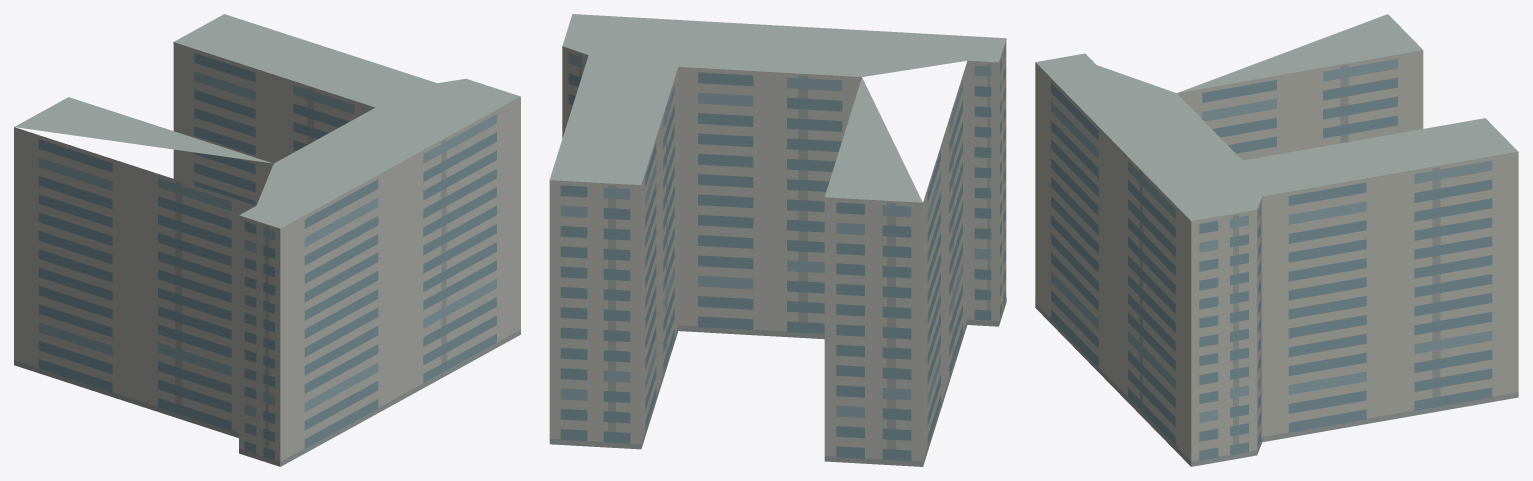
Rendered from residential-df0714a9-7a3e-4f11-92aa-8edfc4a081b9.glb.
The picture shows the model from 3 angles, left to right: view 1: azimuth 30°, elevation 25°; view 2: azimuth 150°, elevation 25°; view 3: azimuth 270°, elevation 25°; orthographic projection. The views are drawn at different scales.
Parts seen in each view (by area): view 1: residential-df0714a9-7a3e-4f11-92aa-8edfc4a081b9.tmp; view 2: residential-df0714a9-7a3e-4f11-92aa-8edfc4a081b9.tmp; view 3: residential-df0714a9-7a3e-4f11-92aa-8edfc4a081b9.tmp.
Boxes of the visible parts, x1=… form: residential-df0714a9-7a3e-4f11-92aa-8edfc4a081b9.tmp: x1=14, y1=14, x2=520, y2=466; residential-df0714a9-7a3e-4f11-92aa-8edfc4a081b9.tmp: x1=549, y1=14, x2=1006, y2=466; residential-df0714a9-7a3e-4f11-92aa-8edfc4a081b9.tmp: x1=1035, y1=14, x2=1518, y2=466.
Bounding box in the file's own units: 65.09 × 36 × 64.14.
